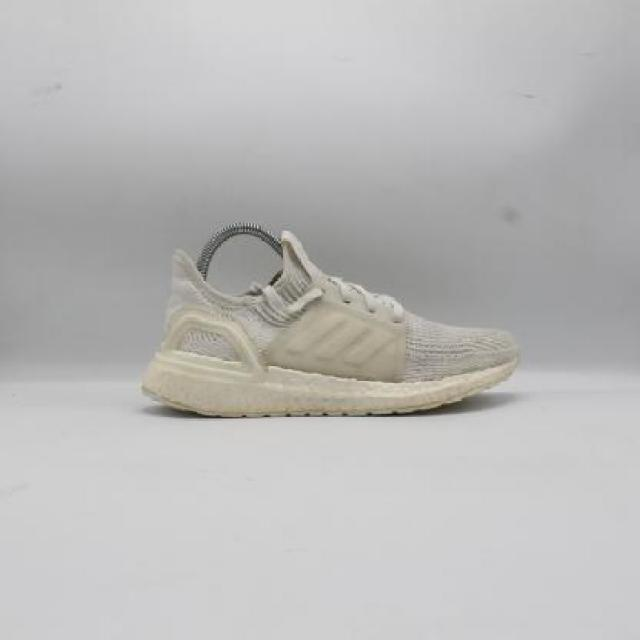Adidas: (286, 302, 404, 376)
